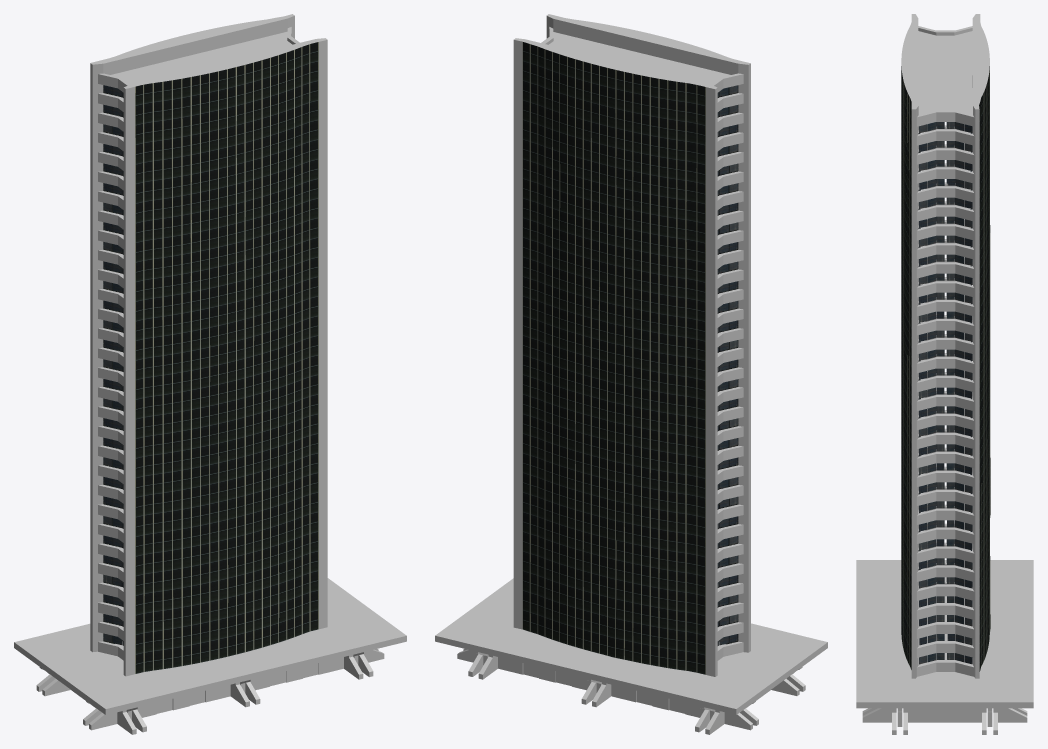
3 renders of one model, left to right at view 1: azimuth 30°, elevation 25°; view 2: azimuth 150°, elevation 25°; view 3: azimuth 270°, elevation 25°, orthographic. The views are drawn at different scales.
Parts seen in each view (by area): view 1: BC-081; view 2: BC-081; view 3: BC-081.
Part boxes in pixels (box(x1,y1,x2,y2)): BC-081: box(14, 14, 406, 734); BC-081: box(435, 14, 827, 734); BC-081: box(856, 14, 1033, 734).
Size of what is drawn, in the model's own units: 53.19 by 105 by 28.
